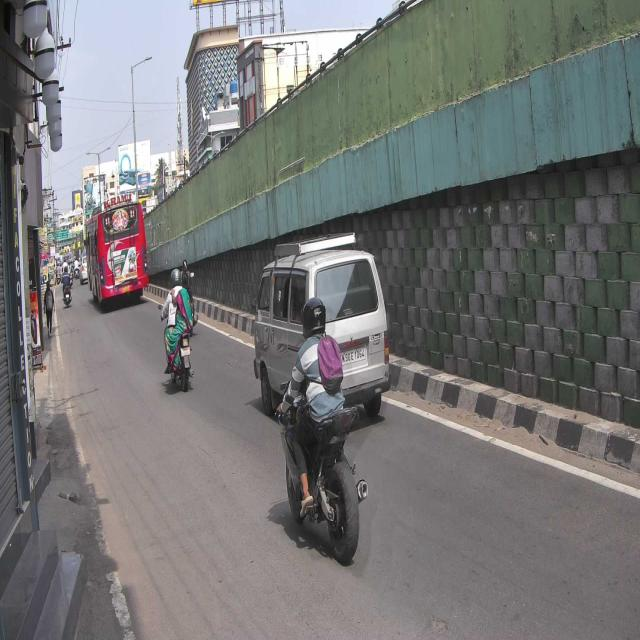single_rider: (274, 295, 370, 565)
